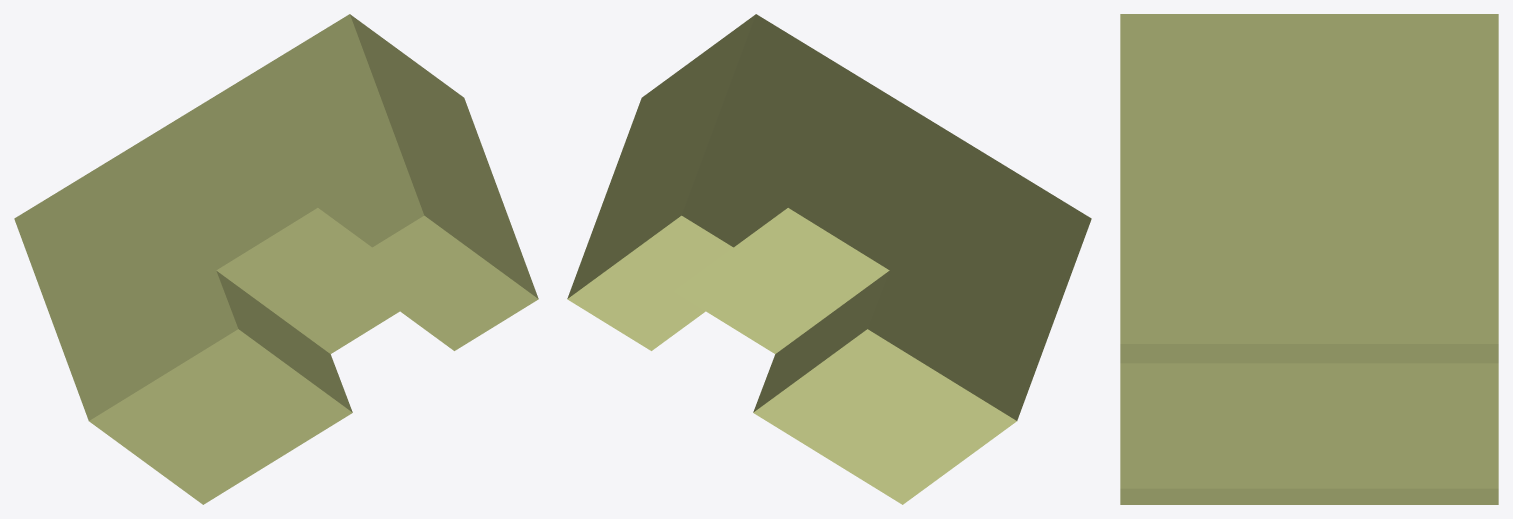
3 views of the same model, side by side, from view 1: azimuth 30°, elevation 25°; view 2: azimuth 150°, elevation 25°; view 3: azimuth 270°, elevation 25° (orthographic). The views are drawn at different scales.
Visible parts, largest first — view 1: 0_1_0_2_0_2_0_3_1_2; view 2: 0_1_0_2_0_2_0_3_1_2; view 3: 0_1_0_2_0_2_0_3_1_2.
Boxes of the visible parts, x1,y1,x2,y2 form: 0_1_0_2_0_2_0_3_1_2: [14, 14, 538, 504]; 0_1_0_2_0_2_0_3_1_2: [567, 14, 1091, 504]; 0_1_0_2_0_2_0_3_1_2: [1120, 14, 1498, 504].
Size of the model in its own units: 18.62 by 14.9 by 9.
